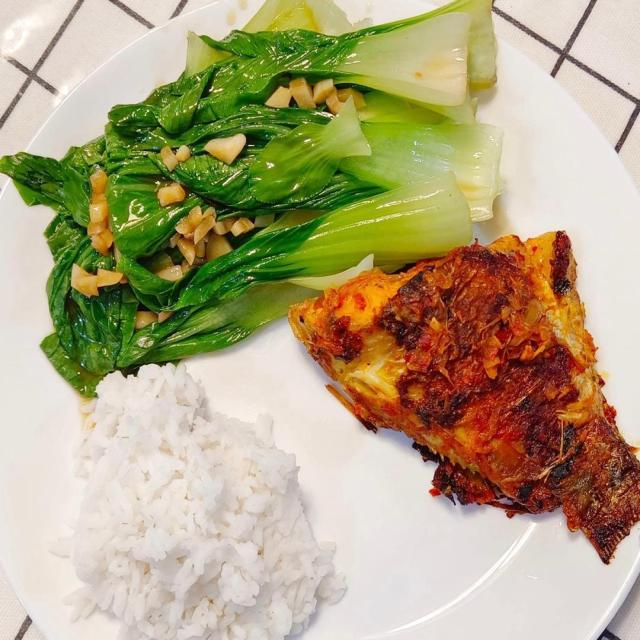Fish: (292, 225, 640, 568)
Plate: (497, 45, 639, 424)
Rice: (49, 362, 345, 639)
